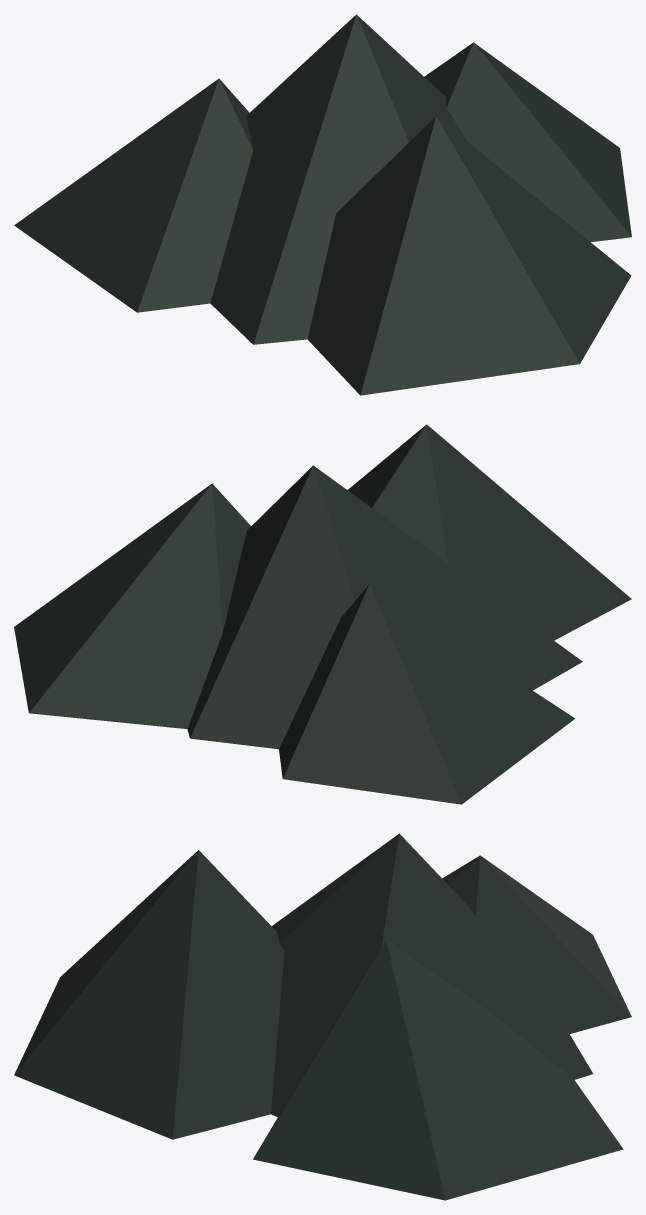
The model's file is bush.glb.
The picture shows the model from 3 angles, top to bottom: view 1: azimuth 30°, elevation 25°; view 2: azimuth 150°, elevation 25°; view 3: azimuth 270°, elevation 25°; orthographic projection. The views are drawn at different scales.
Visible parts, largest first — view 1: Bush; view 2: Bush; view 3: Bush.
Part boxes in pixels (left/top/right/bottom): Bush: left=14, top=14, right=631, bottom=395; Bush: left=14, top=424, right=631, bottom=804; Bush: left=14, top=833, right=631, bottom=1200.
Bounding box in the file's own units: 0.8885 × 0.355 × 0.8727.
Materials: 1 (1 with a texture image).
